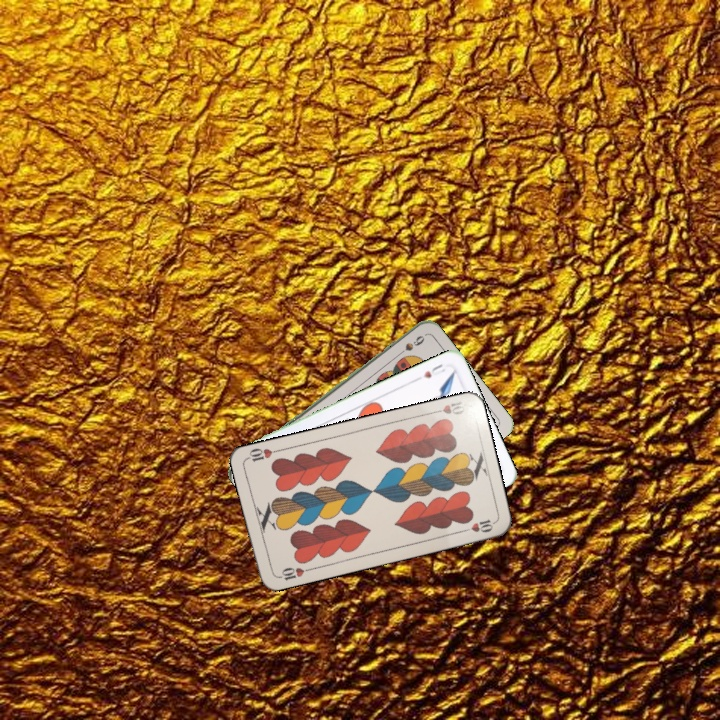H10: (427, 397, 467, 417), (273, 563, 313, 583)
HU: (412, 360, 448, 383)
S9: (392, 331, 426, 360)
